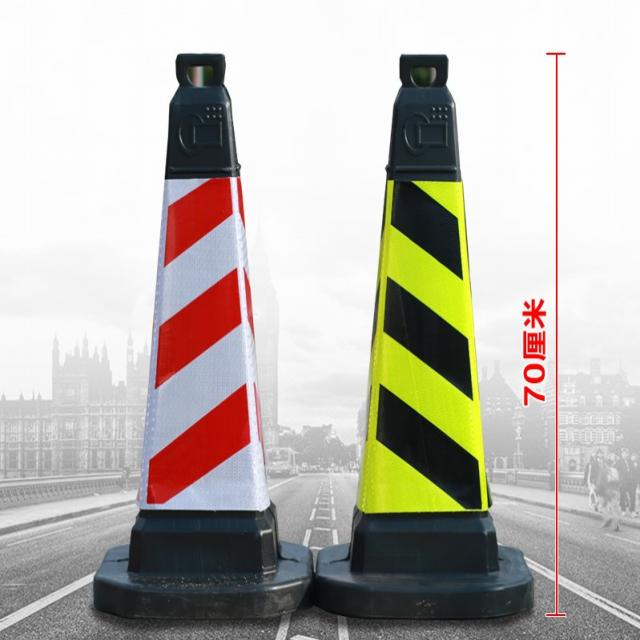reflective_cone: (312, 50, 538, 624), (92, 46, 314, 617)
